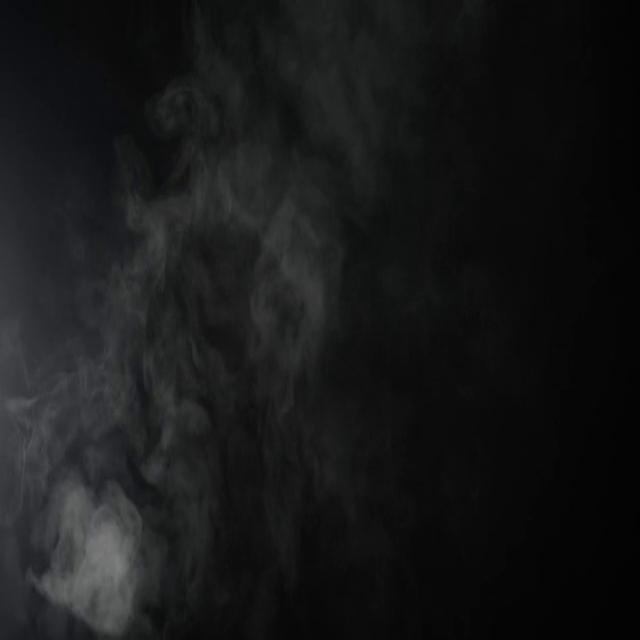smoke: (38, 482, 138, 638), (196, 143, 284, 269), (290, 33, 352, 158), (270, 208, 318, 324), (157, 460, 203, 571), (52, 382, 102, 467)
